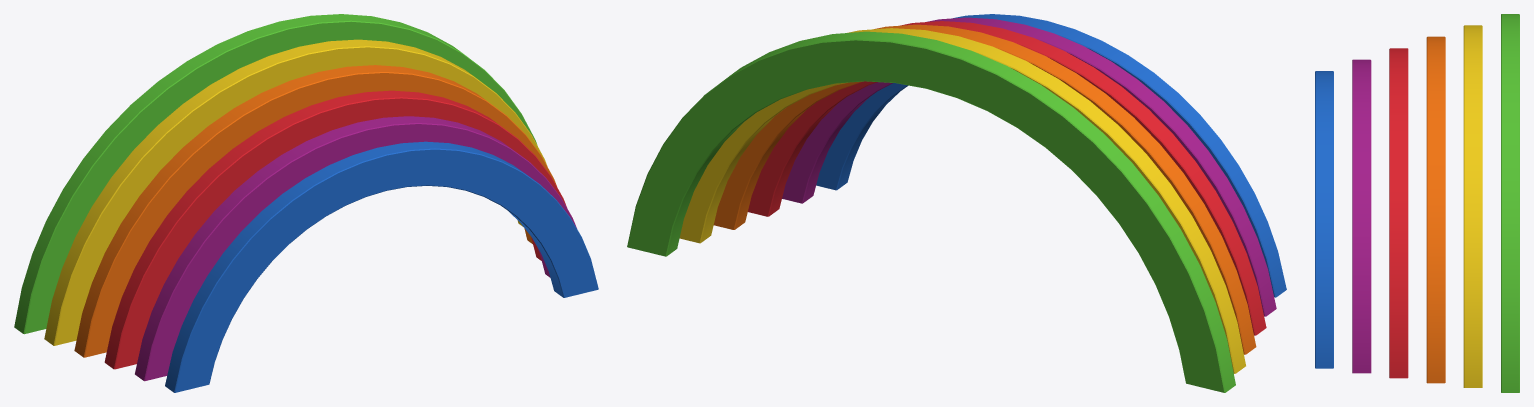
The model's file is sf-apple-park-rainbow.glb.
3 views of the same model, side by side, from view 1: azimuth 30°, elevation 25°; view 2: azimuth 150°, elevation 25°; view 3: azimuth 270°, elevation 25° (orthographic). The views are drawn at different scales.
Parts seen in each view (by area): view 1: Apple Park rainbow; view 2: Apple Park rainbow; view 3: Apple Park rainbow.
Boxes of the visible parts, <box> form: Apple Park rainbow: <box>14,14,598,392</box>; Apple Park rainbow: <box>627,14,1286,392</box>; Apple Park rainbow: <box>1315,14,1519,392</box>.
Size of the model in its own units: 30.5 by 13.25 by 10.75.
